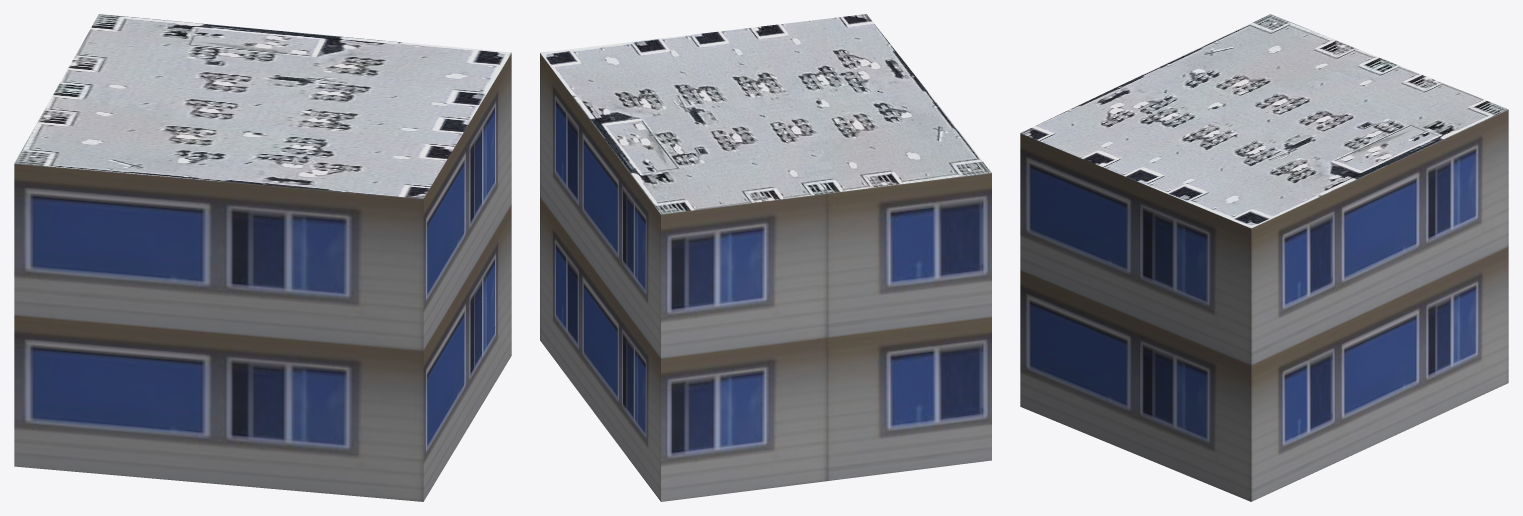
File: ResTex__1659.fbx
3 views of the same model, side by side, from view 1: azimuth 30°, elevation 25°; view 2: azimuth 150°, elevation 25°; view 3: azimuth 270°, elevation 25° (orthographic). The views are drawn at different scales.
Parts seen in each view (by area): view 1: CityEngineMaterial_23_m, CityEngineMaterial_m; view 2: CityEngineMaterial_23_m, CityEngineMaterial_m; view 3: CityEngineMaterial_23_m, CityEngineMaterial_m.
Part boxes in pixels (x1,y1,x2,y2): CityEngineMaterial_23_m: (14, 53, 511, 501); CityEngineMaterial_m: (14, 14, 511, 198); CityEngineMaterial_23_m: (540, 53, 991, 501); CityEngineMaterial_m: (540, 14, 991, 214); CityEngineMaterial_23_m: (1020, 109, 1508, 501); CityEngineMaterial_m: (1020, 14, 1508, 228).
Size of the model in its own units: 10.09 by 6 by 9.71.
Materials: 2 (2 with a texture image).
